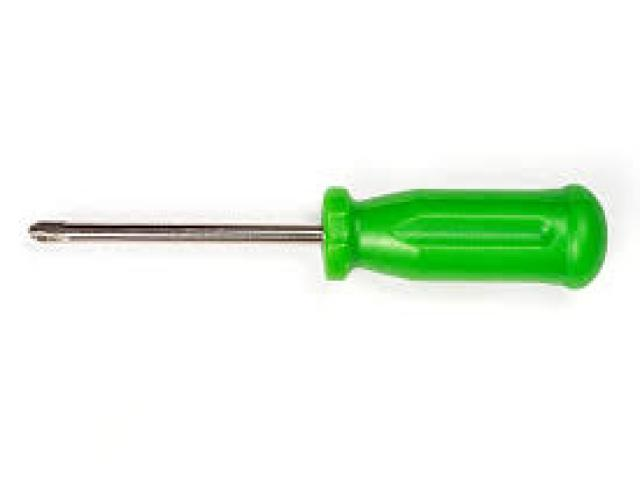Screwdriver: (30, 185, 608, 287)
